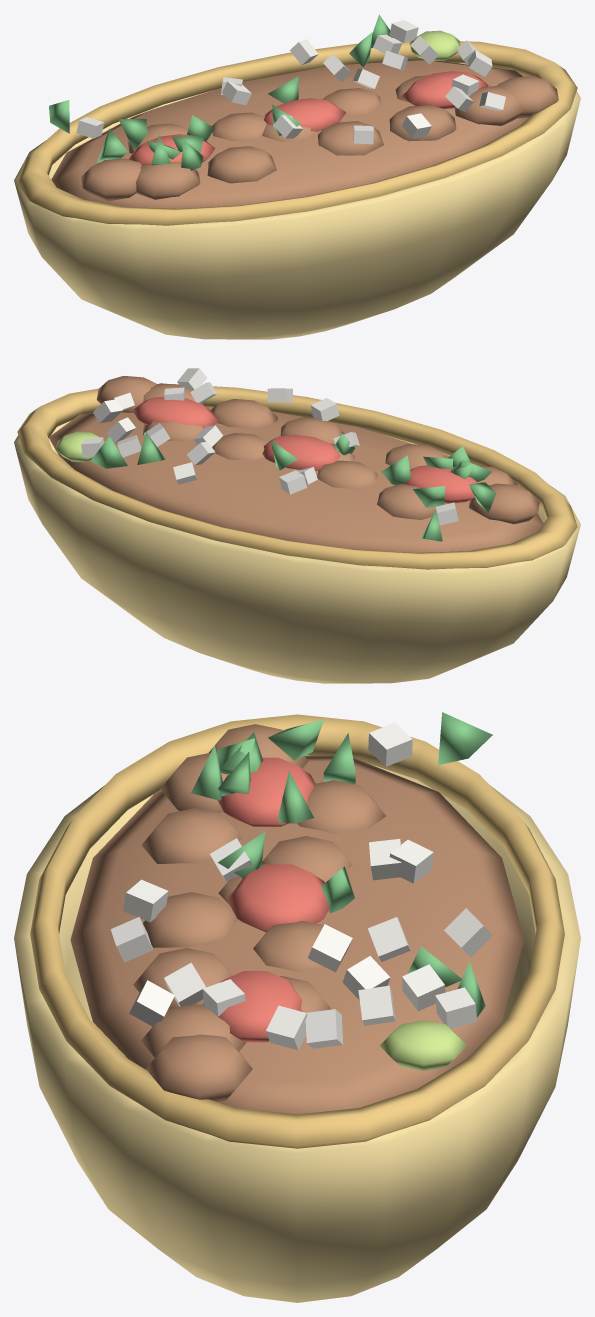
File: taco.glb
3 views of the same model, one above another, from view 1: azimuth 30°, elevation 25°; view 2: azimuth 150°, elevation 25°; view 3: azimuth 270°, elevation 25° (orthographic). The views are drawn at different scales.
Parts seen in each view (by area): view 1: Sphere, Sphere.001, Torus, Sphere.002, Sphere.005, Sphere.003, Sphere.015, Sphere.016, Sphere.013, Sphere.008, Sphere.012, Sphere.010 (+19 smaller); view 2: Sphere, Sphere.001, Torus, Sphere.016, Sphere.002, Sphere.015, Sphere.014, Sphere.010, Sphere.004, Sphere.006, Sphere.009, Sphere.013 (+17 smaller); view 3: Sphere, Sphere.001, Torus, Sphere.013, Sphere.015, Sphere.005, Sphere.008, Sphere.016, Sphere.014, Sphere.004, Sphere.017, Sphere.009 (+33 smaller).
Part boxes in pixels (left/top/right/bottom): Sphere: left=14, top=63, right=580, bottom=339; Sphere.001: left=51, top=60, right=528, bottom=208; Torus: left=17, top=41, right=577, bottom=225; Sphere.002: left=81, top=158, right=141, bottom=201; Sphere.005: left=207, top=146, right=276, bottom=183; Sphere.003: left=136, top=161, right=200, bottom=199; Sphere.015: left=264, top=98, right=345, bottom=131; Sphere.016: left=402, top=71, right=488, bottom=108; Sphere.013: left=497, top=76, right=558, bottom=118; Sphere.008: left=318, top=121, right=383, bottom=155; Sphere.012: left=454, top=86, right=522, bottom=125; Sphere.010: left=389, top=105, right=456, bottom=141; Sphere: left=14, top=421, right=580, bottom=683; Sphere.001: left=48, top=406, right=543, bottom=552; Torus: left=17, top=384, right=577, bottom=569; Sphere.016: left=132, top=396, right=218, bottom=428; Sphere.002: left=469, top=483, right=539, bottom=524; Sphere.015: left=262, top=434, right=340, bottom=470; Sphere.014: left=405, top=465, right=477, bottom=503; Sphere.010: left=210, top=399, right=277, bottom=428; Sphere.004: left=377, top=484, right=435, bottom=519; Sphere.006: left=317, top=460, right=377, bottom=489; Sphere.009: left=212, top=433, right=268, bottom=460; Sphere.013: left=96, top=376, right=157, bottom=412; Sphere: left=14, top=755, right=580, bottom=1302; Sphere.001: left=70, top=755, right=524, bottom=1114; Torus: left=30, top=714, right=564, bottom=1148; Sphere.013: left=146, top=1034, right=252, bottom=1101; Sphere.015: left=227, top=864, right=329, bottom=932; Sphere.005: left=141, top=808, right=242, bottom=863; Sphere.008: left=143, top=892, right=237, bottom=947; Sphere.016: left=202, top=971, right=302, bottom=1042; Sphere.014: left=217, top=757, right=315, bottom=826; Sphere.004: left=297, top=780, right=385, bottom=833; Sphere.017: left=379, top=1020, right=467, bottom=1070; Sphere.009: left=253, top=921, right=323, bottom=972.
Bounding box in the file's own units: 3.19 × 1.33 × 1.8.
